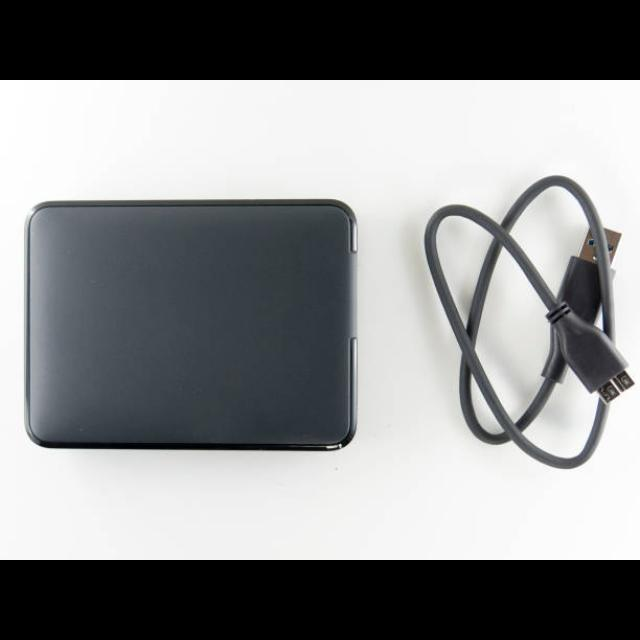HDD: (22, 199, 358, 453)
